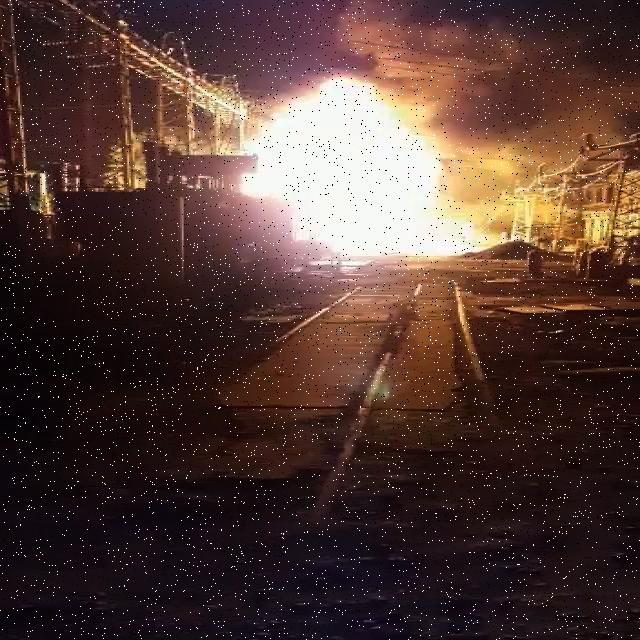fire: (230, 82, 511, 289)
